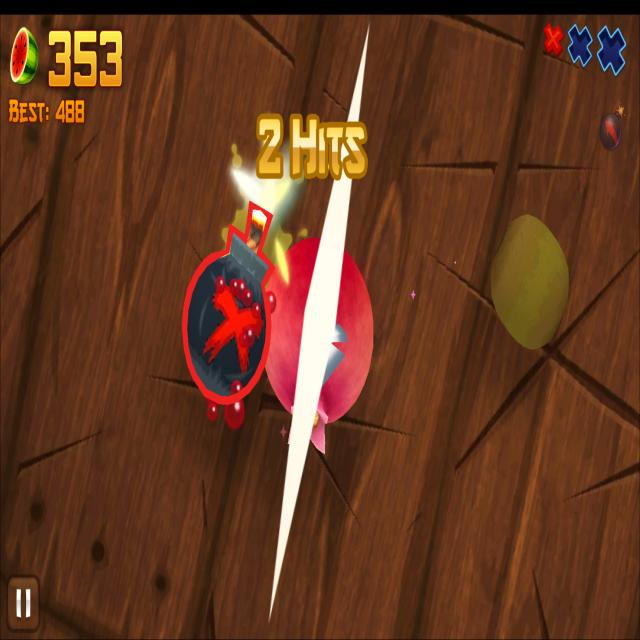bomb: (183, 198, 274, 407)
fruit: (267, 234, 373, 423), (490, 216, 568, 350)
